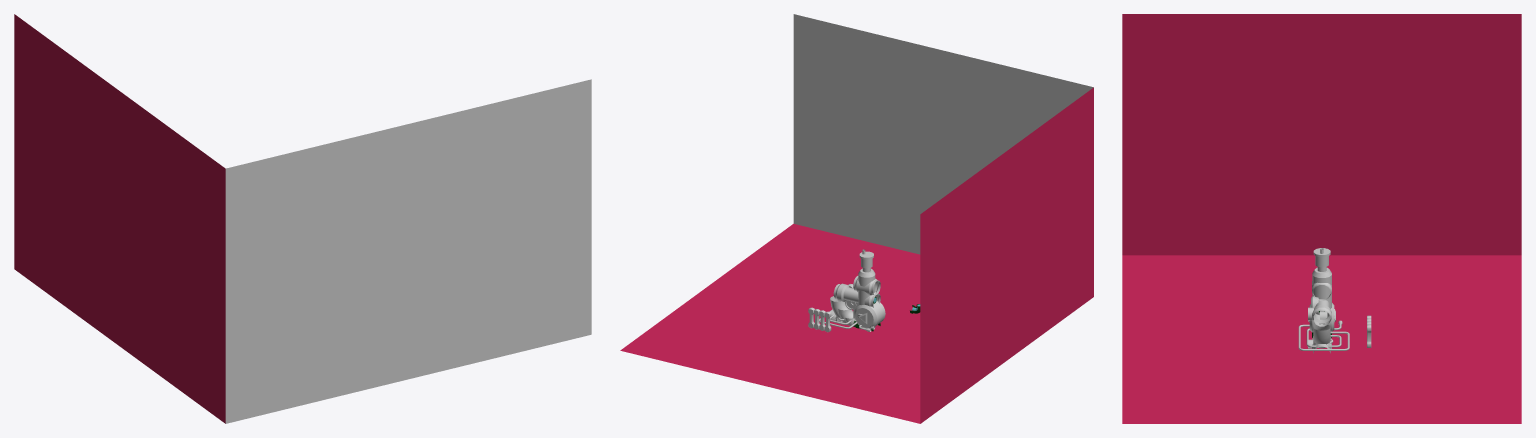
The model's file is Game_meshes.fbx.
3 views of the same model, side by side, from view 1: azimuth 30°, elevation 25°; view 2: azimuth 150°, elevation 25°; view 3: azimuth 270°, elevation 25° (orthographic). The views are drawn at different scales.
Parts seen in each view (by area): view 1: Casa; view 2: Casa, Connector, Pump, object 14, Radiator; view 3: Casa, Connector, object 14, Pavement_heating.
Boxes of the visible parts, x1=… form: Casa: x1=14, y1=14, x2=591, y2=423; Casa: x1=620, y1=14, x2=1093, y2=423; Connector: x1=853, y1=249, x2=880, y2=322; Pump: x1=854, y1=300, x2=885, y2=328; object 14: x1=833, y1=283, x2=880, y2=322; Radiator: x1=808, y1=307, x2=831, y2=332; Casa: x1=1122, y1=14, x2=1521, y2=423; Connector: x1=1312, y1=248, x2=1331, y2=309; object 14: x1=1308, y1=296, x2=1331, y2=348; Pavement_heating: x1=1298, y1=320, x2=1349, y2=350.
Bounding box in the file's own units: 2313 × 1798 × 2313.
